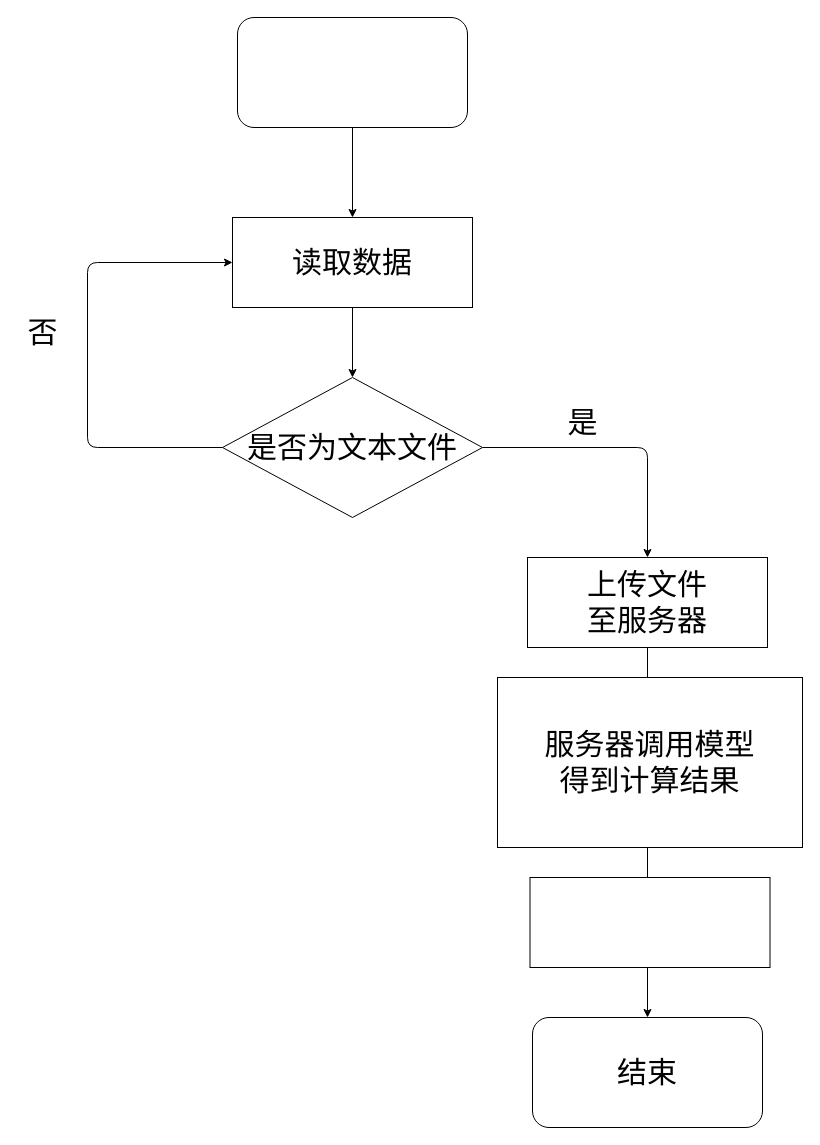
Image size: 820x1145. Some labels were removed from this diagram. Here are the shapes that lost their labels. From the top down, the centre of each, then its label:
(x=352, y=72): 开始
(x=649, y=922): 将计算结果 返回前台
